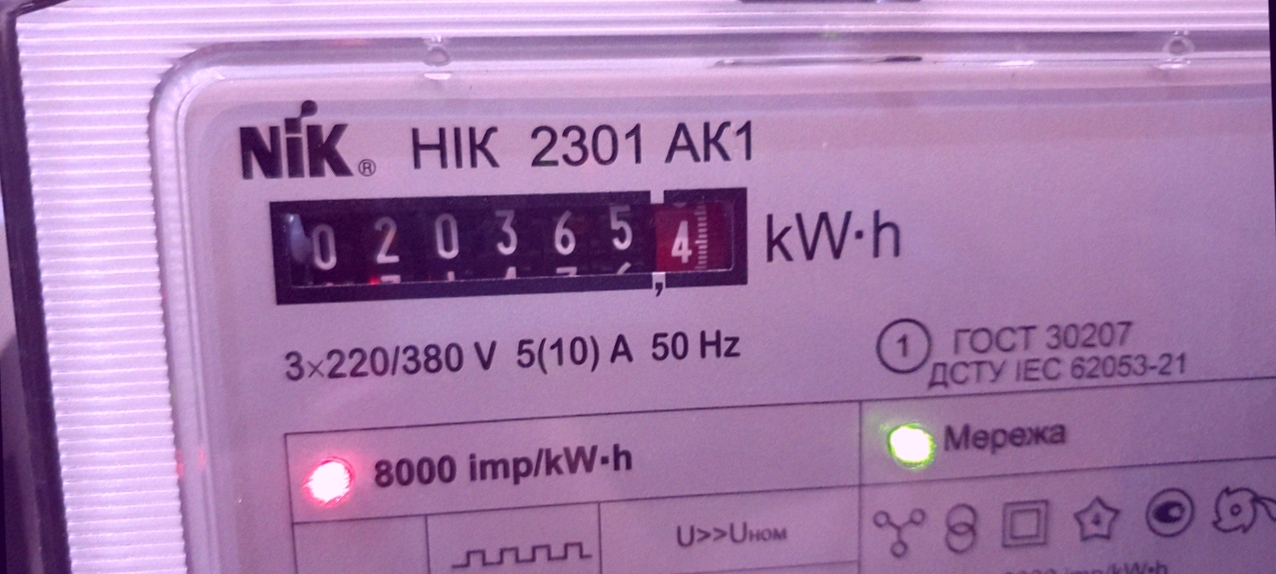0: (306, 216, 340, 272), (431, 209, 462, 259)
2: (369, 211, 401, 263)
3: (490, 205, 520, 255)
4: (667, 214, 692, 263)
5: (607, 201, 635, 249)
6: (549, 203, 577, 255)
screen: (254, 165, 766, 320)
